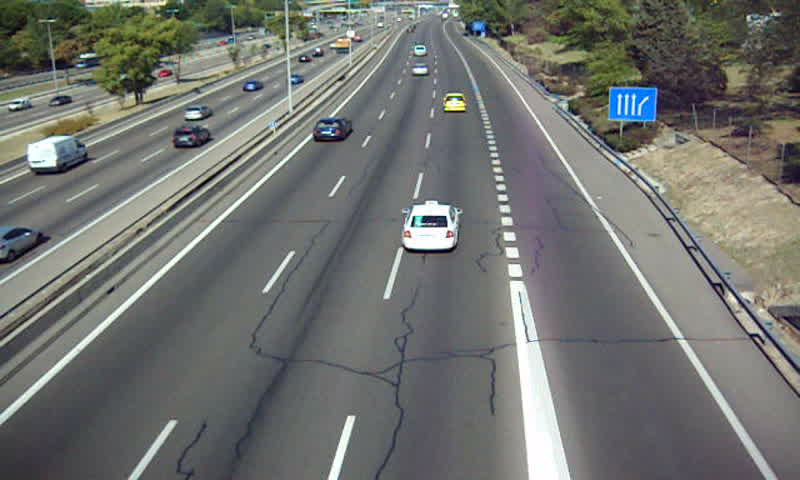car: (402, 202, 459, 250), (314, 118, 352, 140), (443, 92, 468, 114), (411, 62, 429, 76)
